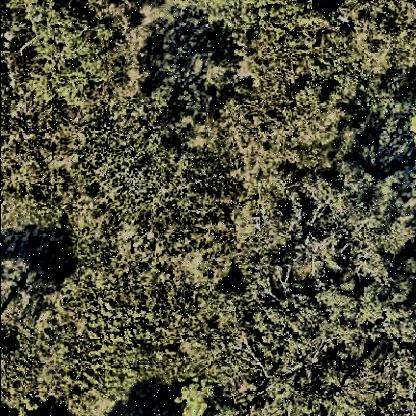tree-top: (92, 101, 186, 215), (25, 6, 111, 94)
